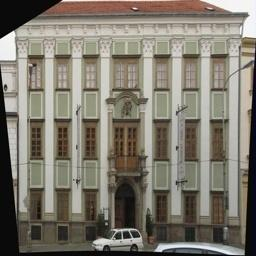building: (11, 2, 246, 252)
